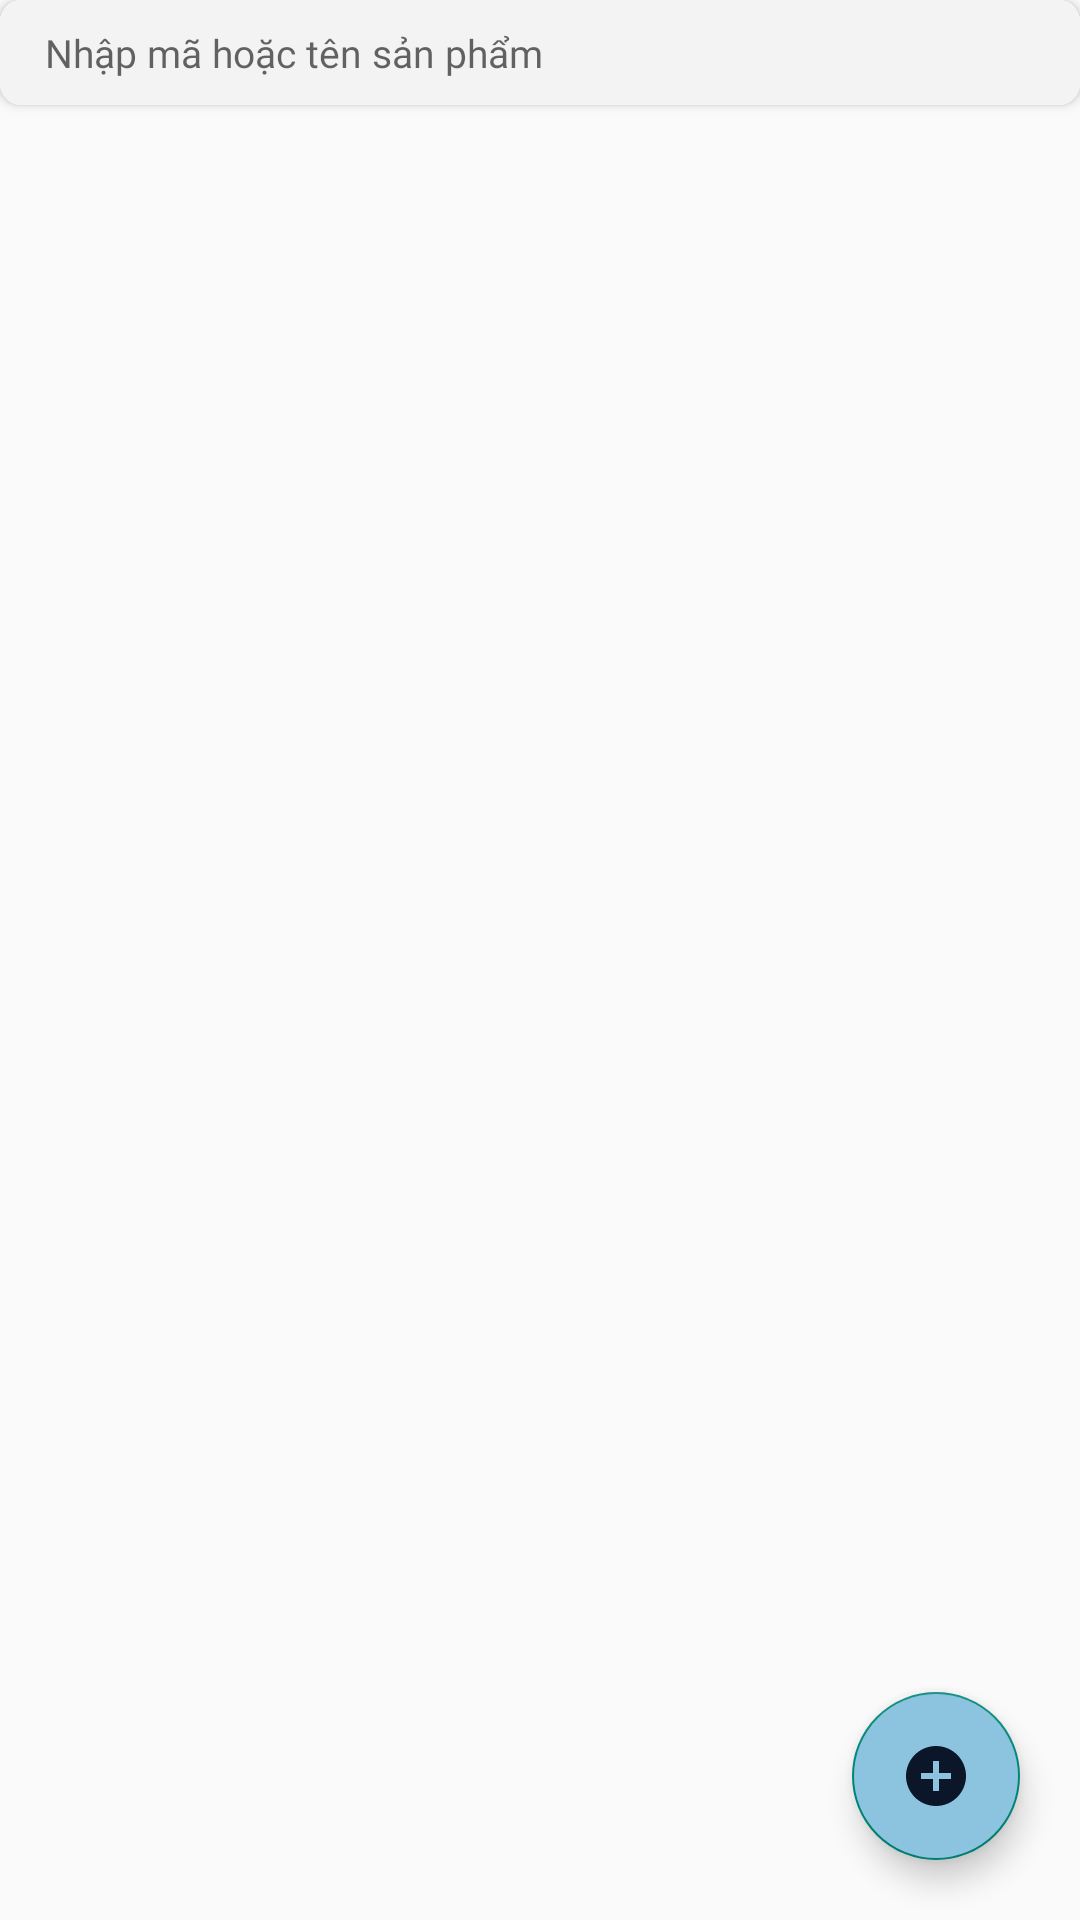

Icon bounding boxes for this 1080*1920 phone screenshot, format [x1=x1, y1=y1, x2=x2, y2=y2]:
add circle: [x1=852, y1=1692, x2=1020, y2=1860]
